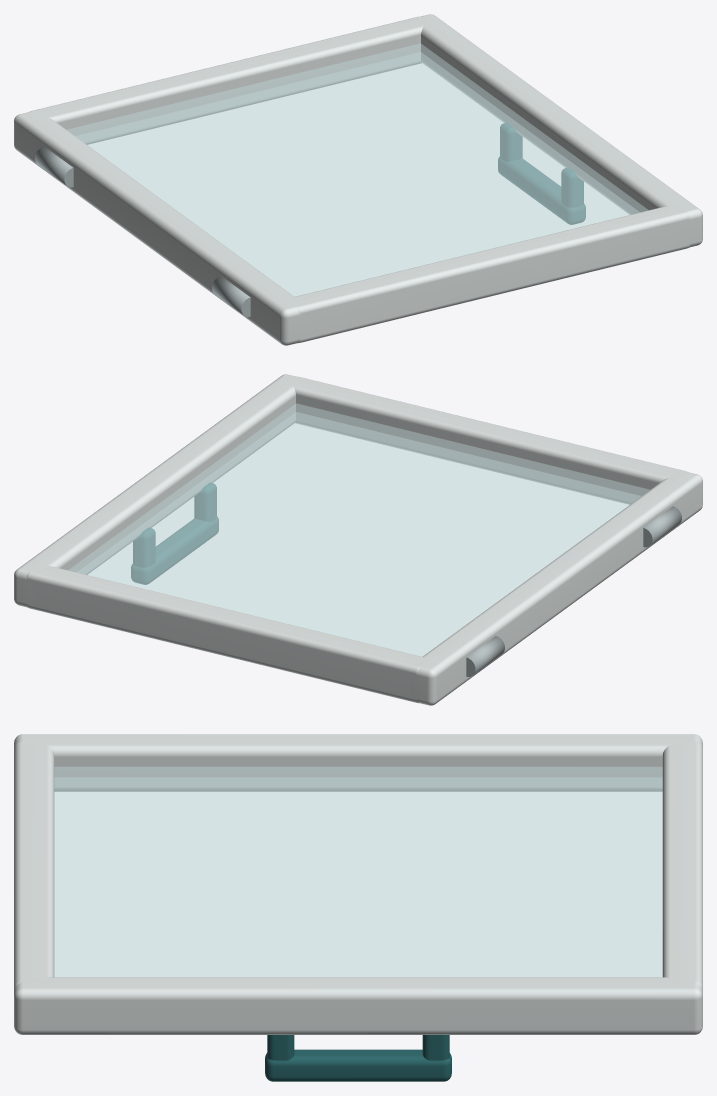
Rendered from door.glb.
3 views of the same model, one above another, from view 1: azimuth 30°, elevation 25°; view 2: azimuth 150°, elevation 25°; view 3: azimuth 270°, elevation 25° (orthographic). The views are drawn at different scales.
Visible parts, largest first — view 1: glazing, top_rail, bottom_rail, hinge_stile, latch_stile, handle, hinge_bottom, hinge_top, handle_mount_top, handle_mount_bottom; view 2: glazing, bottom_rail, top_rail, hinge_stile, latch_stile, handle, hinge_top, hinge_bottom, handle_mount_bottom, handle_mount_top; view 3: glazing, latch_stile, hinge_stile, bottom_rail, top_rail, handle, handle_mount_bottom, handle_mount_top.
Part boxes in pixels (box(x1,y1,x2,y2)): glazing: box(67, 43, 648, 296); top_rail: box(290, 204, 689, 343); bottom_rail: box(29, 16, 424, 144); hinge_stile: box(14, 111, 305, 345); latch_stile: box(415, 14, 702, 247); handle: box(498, 157, 585, 224); hinge_bottom: box(35, 146, 73, 187); hinge_top: box(212, 276, 250, 316); handle_mount_top: box(561, 168, 583, 207); handle_mount_bottom: box(500, 123, 522, 161); glazing: box(68, 403, 649, 656); bottom_rail: box(27, 566, 426, 703); top_rail: box(293, 376, 687, 504); hinge_stile: box(411, 471, 702, 705); latch_stile: box(14, 374, 301, 607); handle: box(131, 517, 218, 584); hinge_top: box(643, 506, 681, 547); hinge_bottom: box(466, 636, 504, 676); handle_mount_bottom: box(133, 528, 155, 567); handle_mount_top: box(194, 483, 216, 521); glazing: box(54, 767, 662, 977); latch_stile: box(14, 977, 702, 1034); hinge_stile: box(14, 734, 702, 791); bottom_rail: box(662, 742, 702, 988); top_rail: box(14, 742, 54, 988); handle: box(265, 1049, 451, 1081); handle_mount_bottom: box(422, 1035, 449, 1060); handle_mount_top: box(267, 1035, 294, 1060).
Bounding box in the file's own units: 0.422 × 0.0765 × 0.461.
